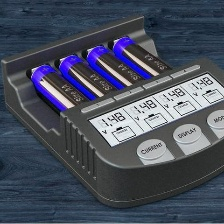battery: (29, 61, 94, 122), (111, 35, 180, 87), (84, 43, 148, 99), (56, 52, 119, 107)
